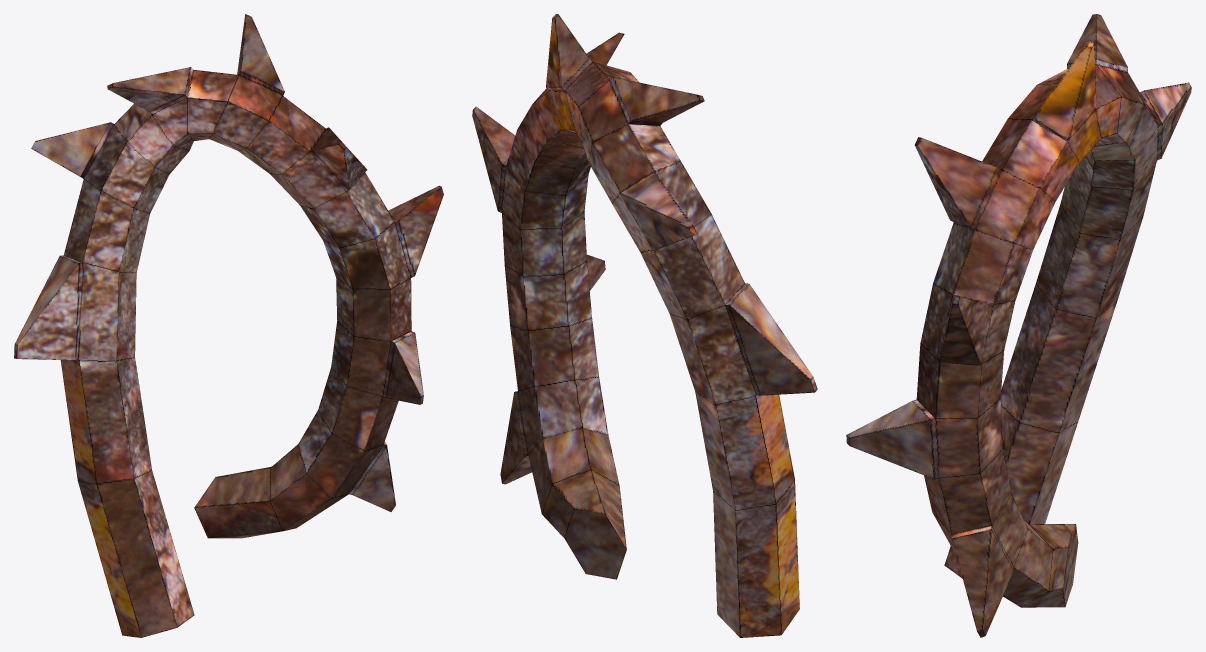
Rendered from barbwire.fbx.
3 views of the same model, side by side, from view 1: azimuth 30°, elevation 25°; view 2: azimuth 150°, elevation 25°; view 3: azimuth 270°, elevation 25° (orthographic). The views are drawn at different scales.
Parts seen in each view (by area): view 1: pCylinder2; view 2: pCylinder2; view 3: pCylinder2.
Boxes of the visible parts, left/top/right/bottom form: pCylinder2: left=14, top=14, right=443, bottom=637; pCylinder2: left=472, top=14, right=817, bottom=637; pCylinder2: left=846, top=14, right=1191, bottom=637.
Bounding box in the file's own units: 0.3662 × 0.5254 × 0.2646.
